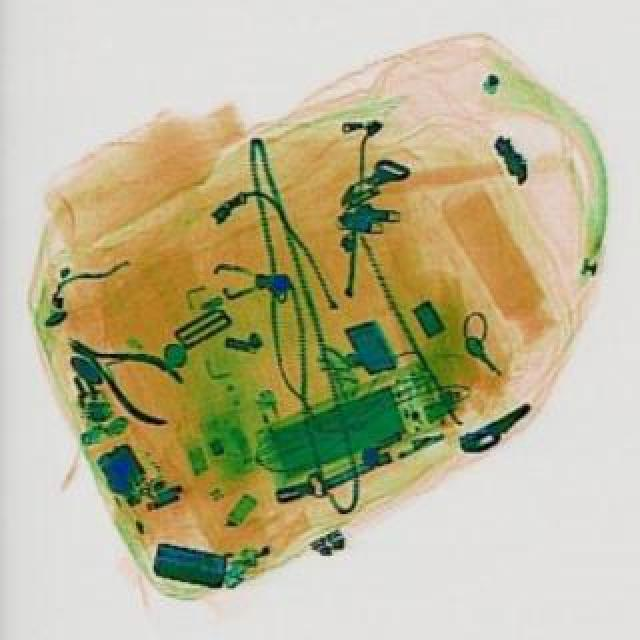wrench: (52, 314, 196, 430)
